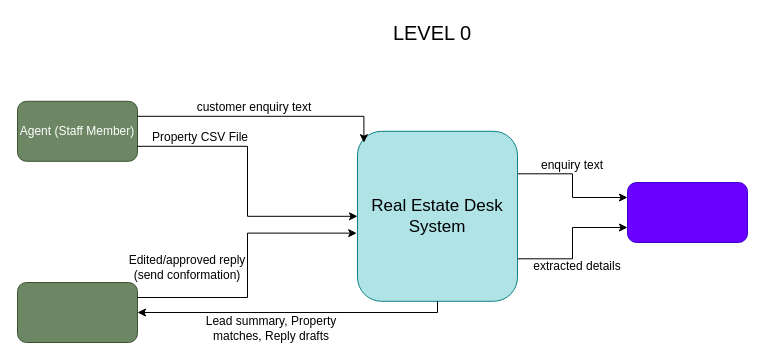
Image size: 765x360. Some labels were removed from this diagram. Each missing label, with the centre of its shape:
"Open Claw (AI extraction service)" goes at (x=687, y=212).
"Property Data Source(CSV) file" goes at (x=77, y=312).
